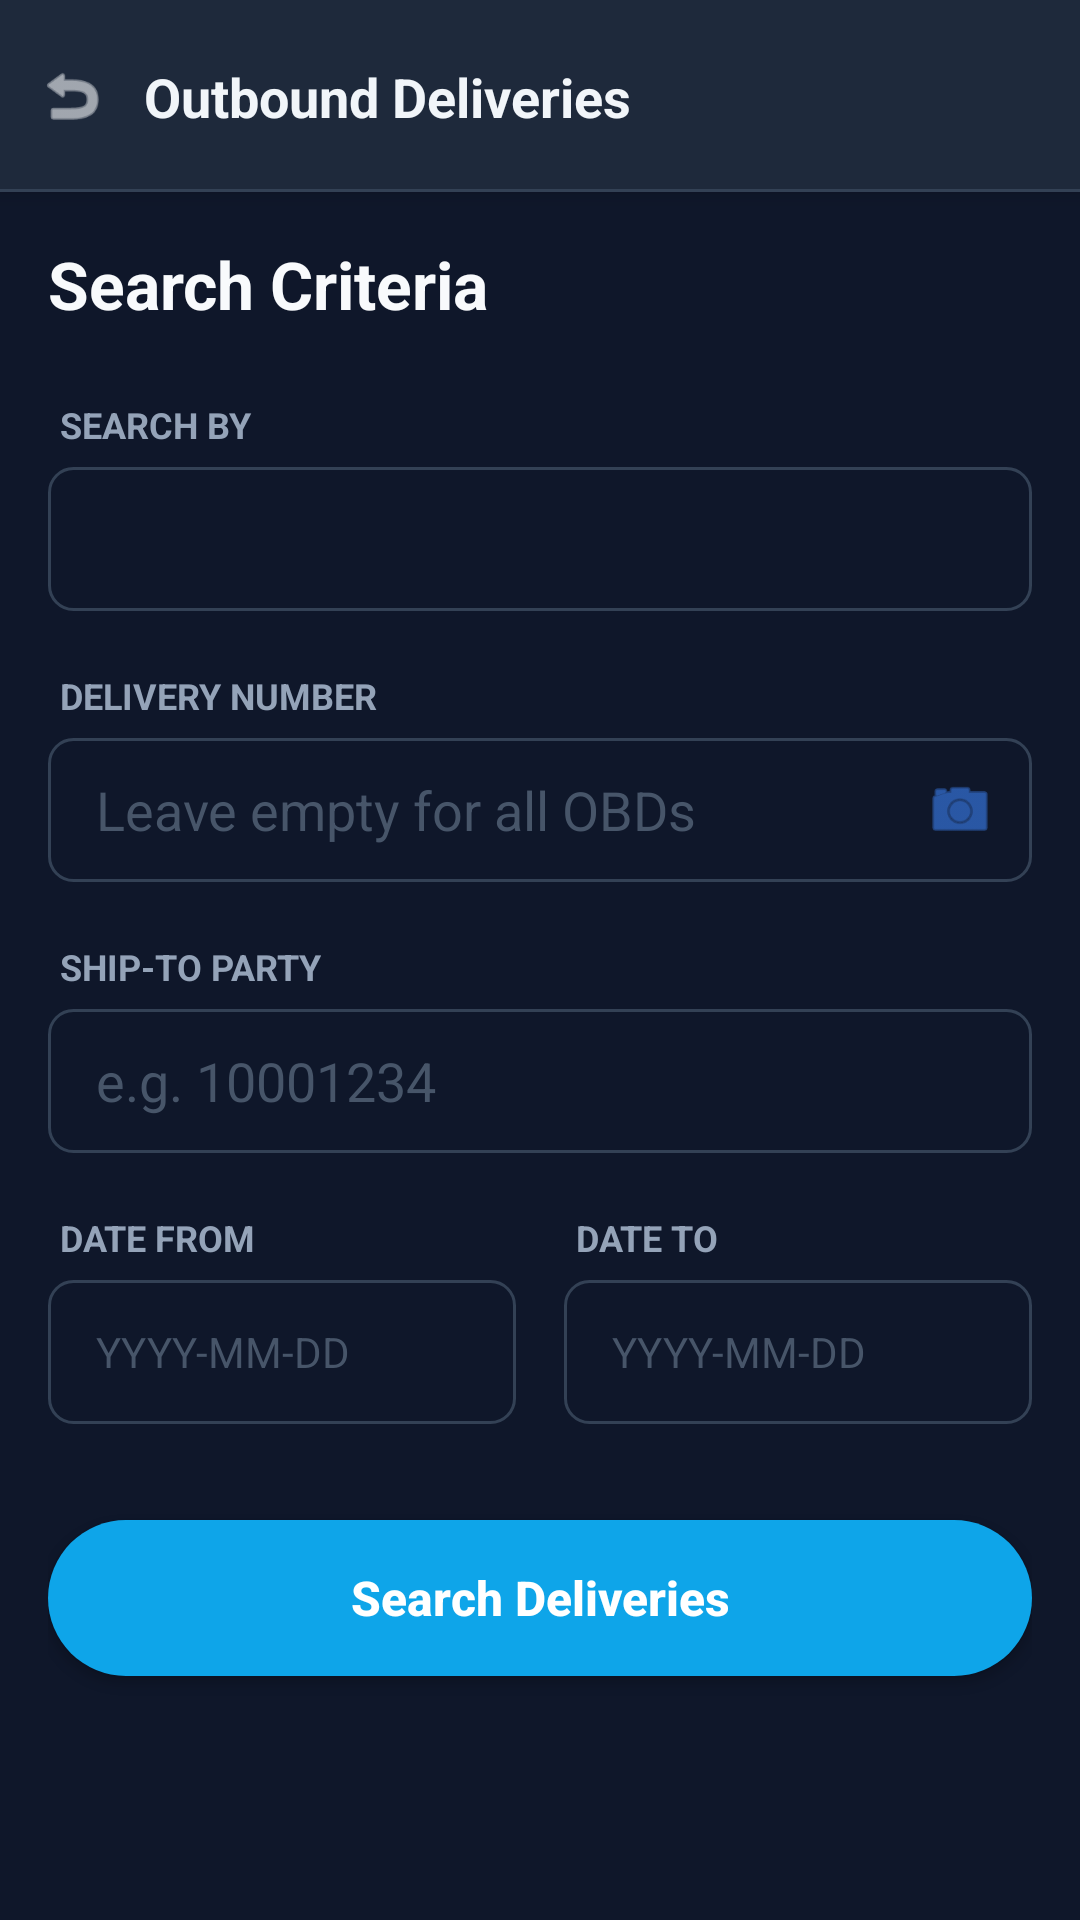

Screen size 1080x1920. Icon name, then its center in pixels as (x=x, y=y):
camera: (x=960, y=809)
revert: (x=73, y=96)
